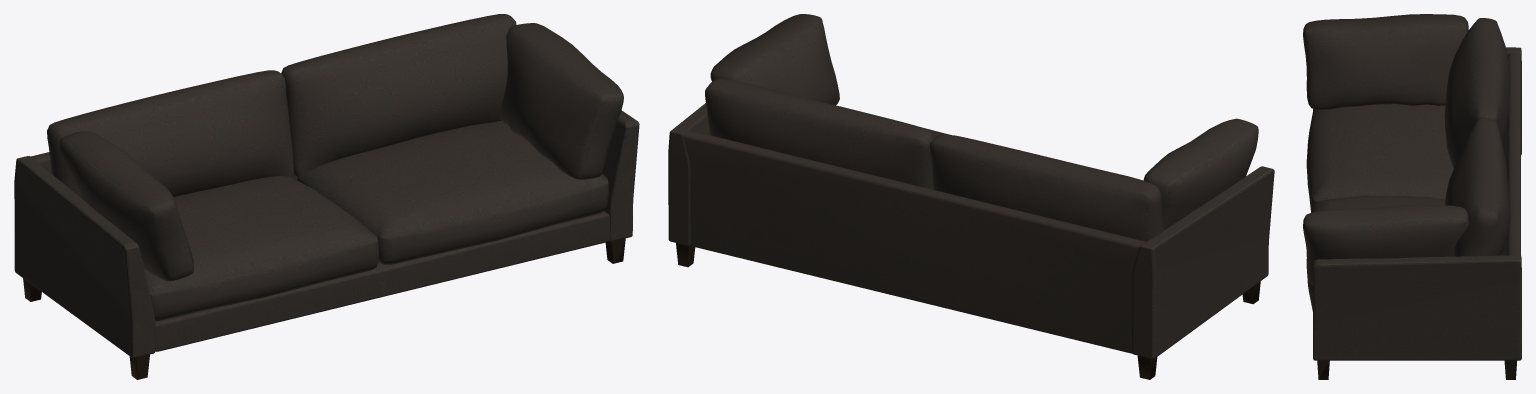
File: sofa_abo_B072C8Q9RF.glb
3 views of the same model, side by side, from view 1: azimuth 30°, elevation 25°; view 2: azimuth 150°, elevation 25°; view 3: azimuth 270°, elevation 25° (orthographic). The views are drawn at different scales.
Parts seen in each view (by area): view 1: RootNode; view 2: RootNode; view 3: RootNode.
Boxes of the visible parts, left/top/right/bottom form: RootNode: left=14, top=14, right=639, bottom=379; RootNode: left=668, top=14, right=1274, bottom=379; RootNode: left=1303, top=14, right=1521, bottom=379.
Bounding box in the file's own units: 2.31 × 0.7917 × 0.9689.
1 material, 1 textured.
